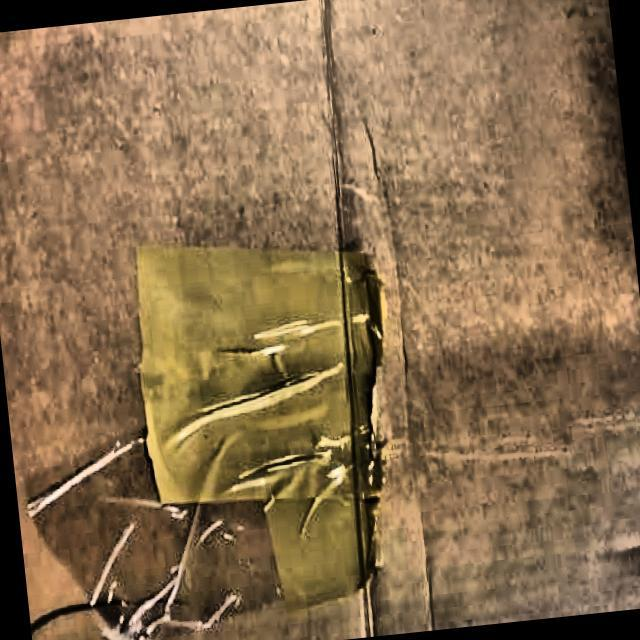cardboard: (122, 216, 415, 622)
